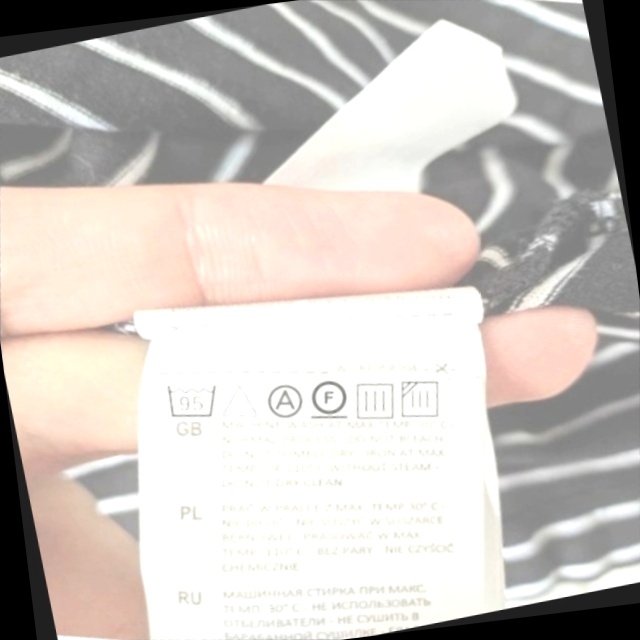95C: (157, 370, 227, 430)
bleach: (215, 373, 265, 427)
drip_dry: (346, 371, 405, 429)
drip_dry_in_shade: (392, 369, 453, 430)
dry_clean: (258, 375, 310, 426)
dry_clean_petrol_only: (302, 368, 358, 428)
